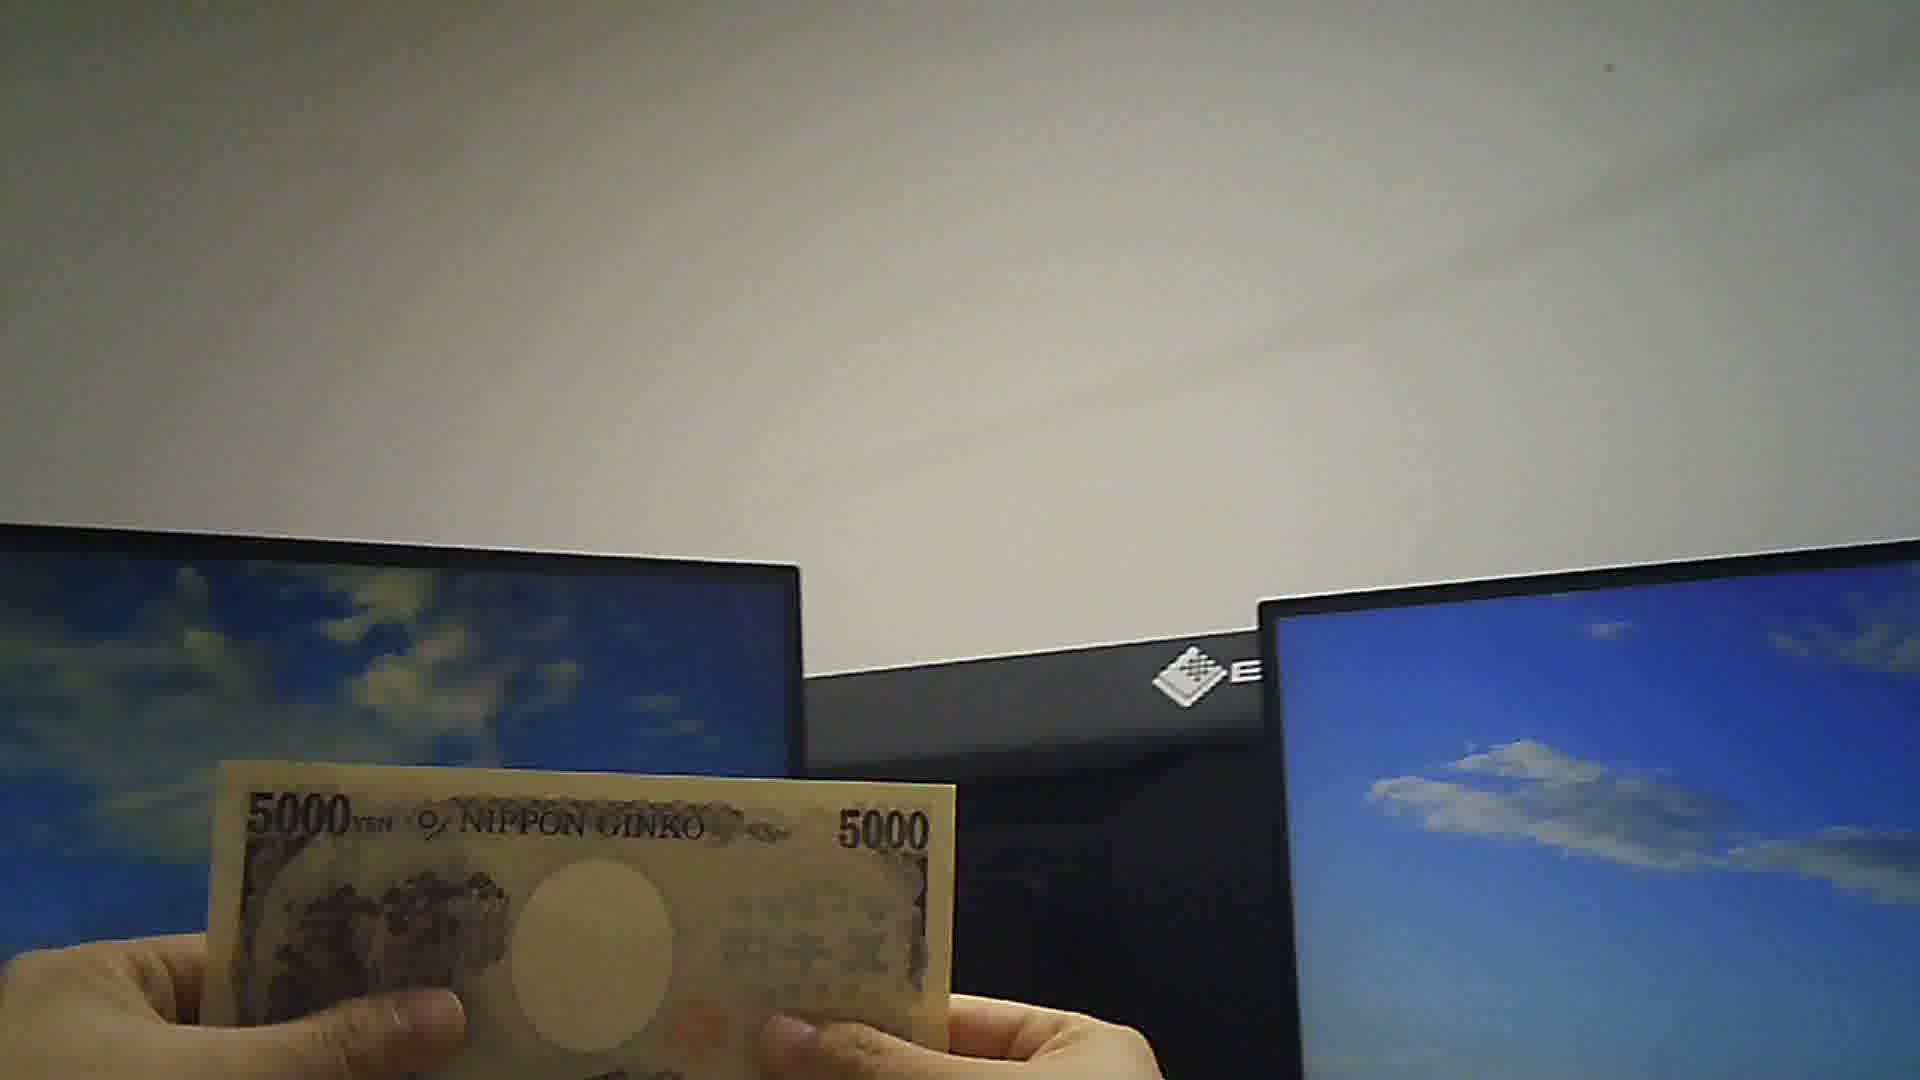5,000 Yen: (183, 752, 963, 1065)
